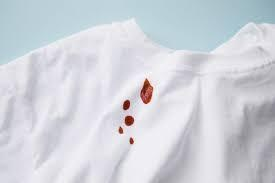blood: (140, 78, 154, 104), (125, 116, 135, 126), (122, 100, 131, 110), (129, 137, 134, 144), (118, 127, 123, 133)
